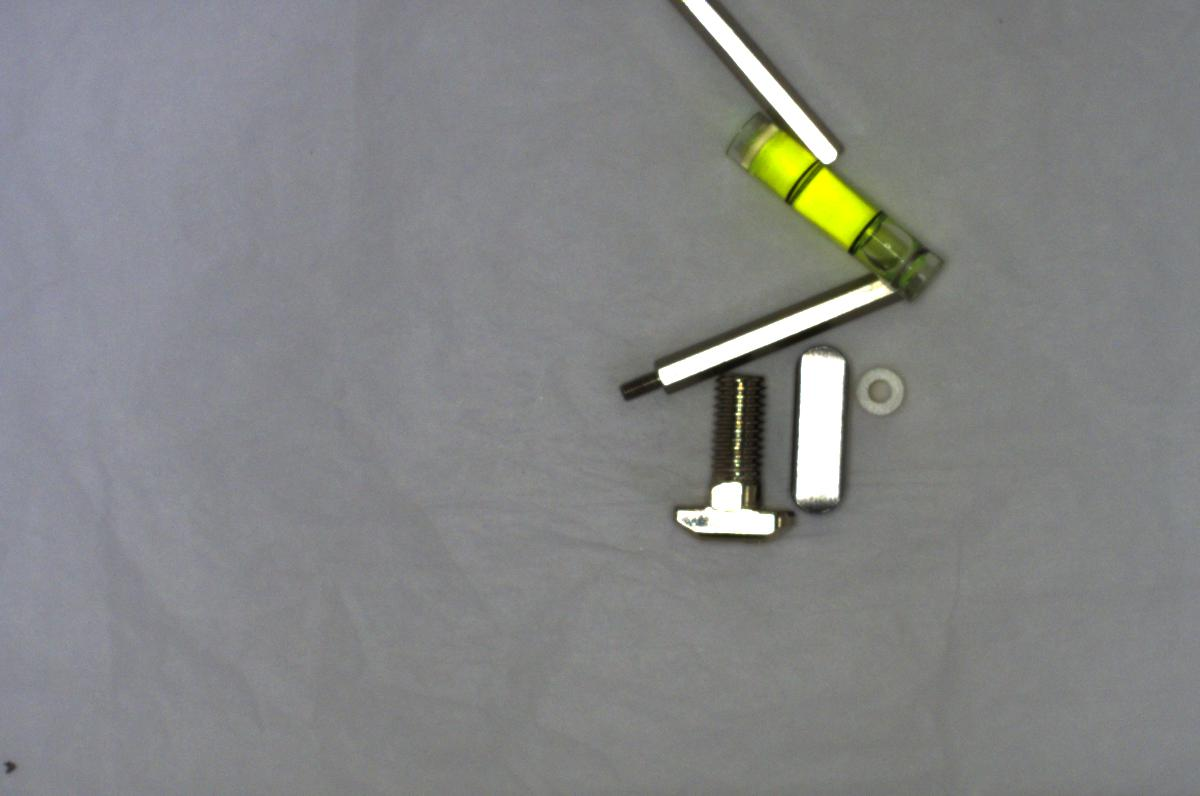Double hexagonal column: (678, 9, 852, 160)
Hexagonal steel column: (619, 267, 893, 400)
Horizontal bubble: (727, 113, 948, 298)
Keybar: (784, 342, 858, 518)
Plastic cushion pillar: (847, 359, 913, 422)
T-shaped screw: (664, 375, 794, 555)
